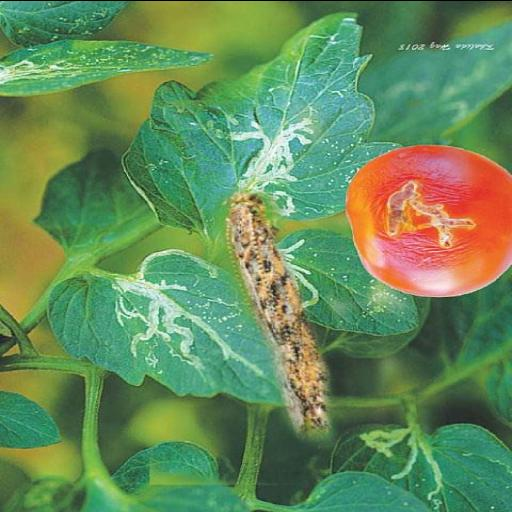Leaf Miner: (118, 13, 404, 227), (40, 250, 282, 404), (277, 228, 423, 334)
